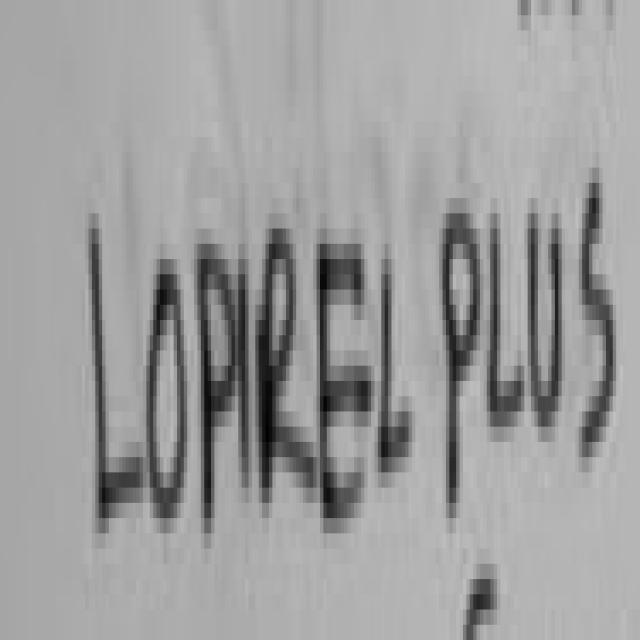E: (320, 244, 374, 518)
I: (238, 259, 249, 488)
L: (92, 229, 143, 542), (490, 229, 524, 427), (381, 249, 412, 465)
O: (150, 274, 187, 518)
P: (446, 213, 480, 518), (201, 259, 238, 533)
R: (259, 229, 317, 503)
S: (586, 183, 616, 457)
U: (531, 213, 562, 427)
